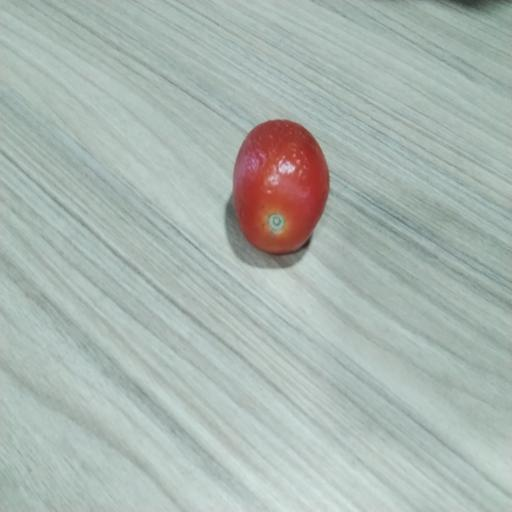spoiled: (233, 120, 329, 254)
